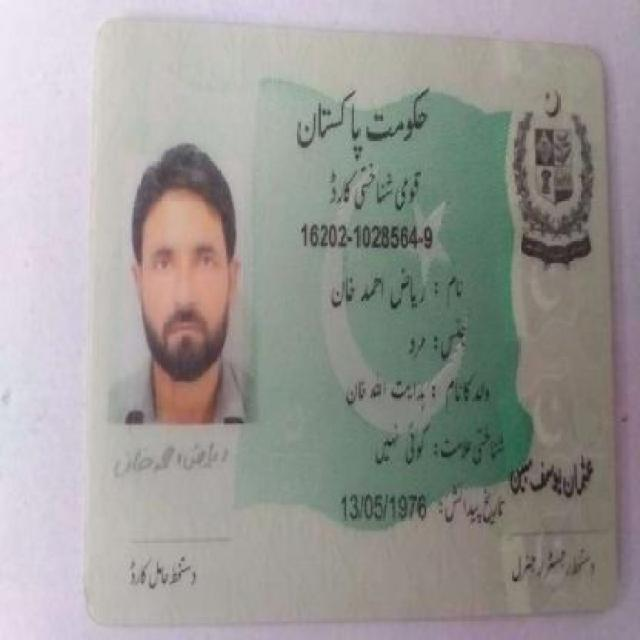Front: (68, 6, 622, 626)
